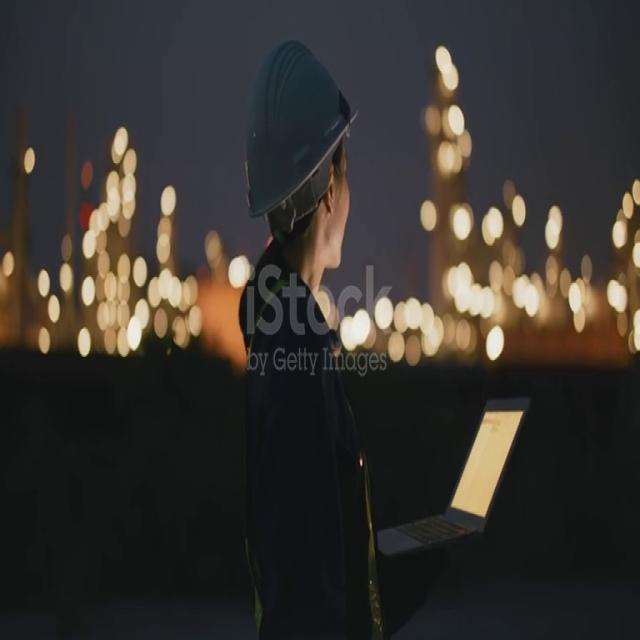capacete: (232, 28, 372, 230)
